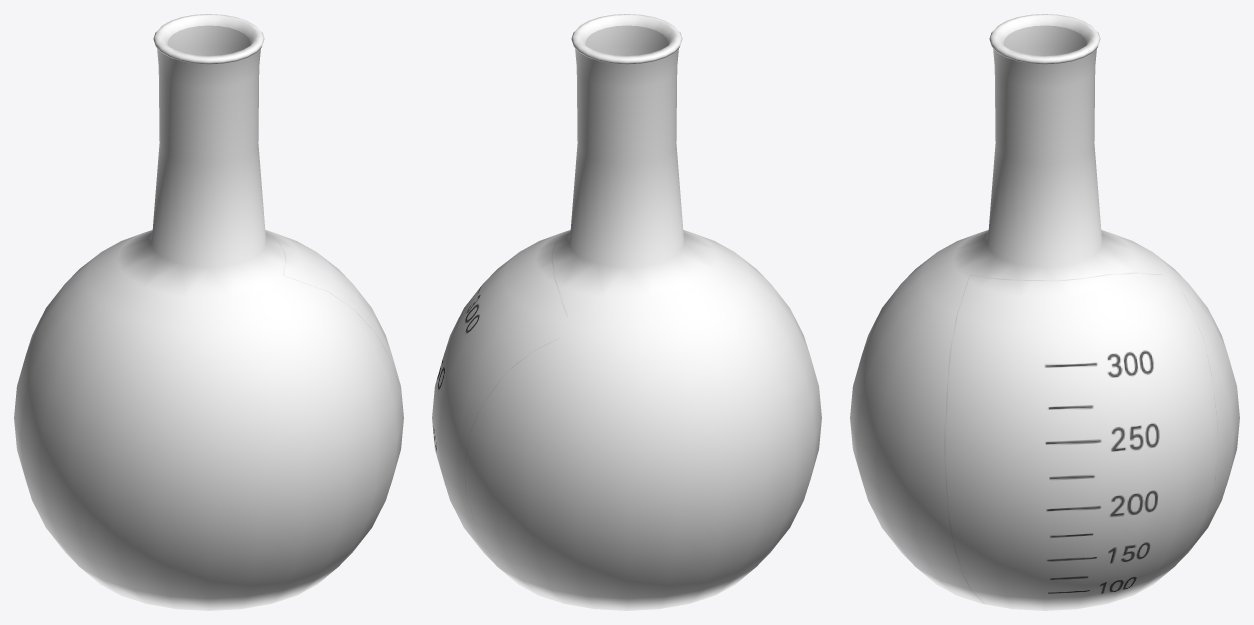
File: Flask3.fbx
The picture shows the model from 3 angles, left to right: view 1: azimuth 30°, elevation 25°; view 2: azimuth 150°, elevation 25°; view 3: azimuth 270°, elevation 25°; orthographic projection.
Visible parts, largest first — view 1: pSphere1; view 2: pSphere1; view 3: pSphere1.
Boxes of the visible parts, x1,y1,x2,y2 form: pSphere1: (14,14,403,610); pSphere1: (432,14,821,610); pSphere1: (850,14,1239,610).
Size of the model in its own units: 1.9 by 2.81 by 1.9.
Materials: 1 (1 with a texture image).
